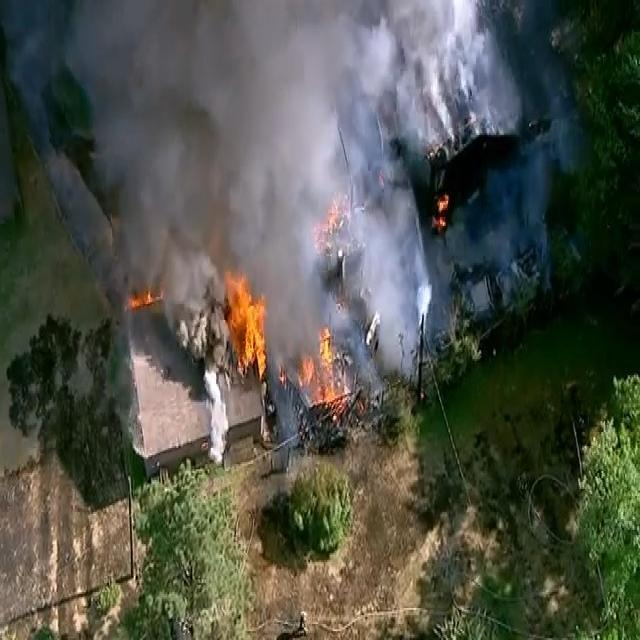Fire: (283, 322, 357, 422), (218, 274, 272, 377), (431, 184, 452, 238), (121, 279, 166, 304)
Smoke: (72, 0, 369, 407)
